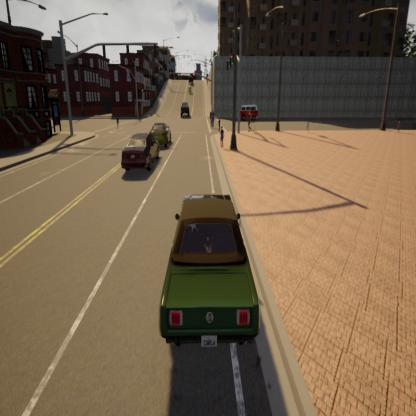Cars: (152, 177, 262, 364), (116, 126, 162, 180), (146, 118, 174, 153), (233, 98, 262, 119), (178, 100, 190, 120), (186, 72, 194, 87), (187, 82, 192, 94)
Pedestrian: (217, 123, 227, 150), (246, 108, 254, 136), (114, 109, 121, 131), (304, 115, 311, 134), (209, 109, 216, 128), (216, 112, 222, 134), (395, 115, 401, 134)
